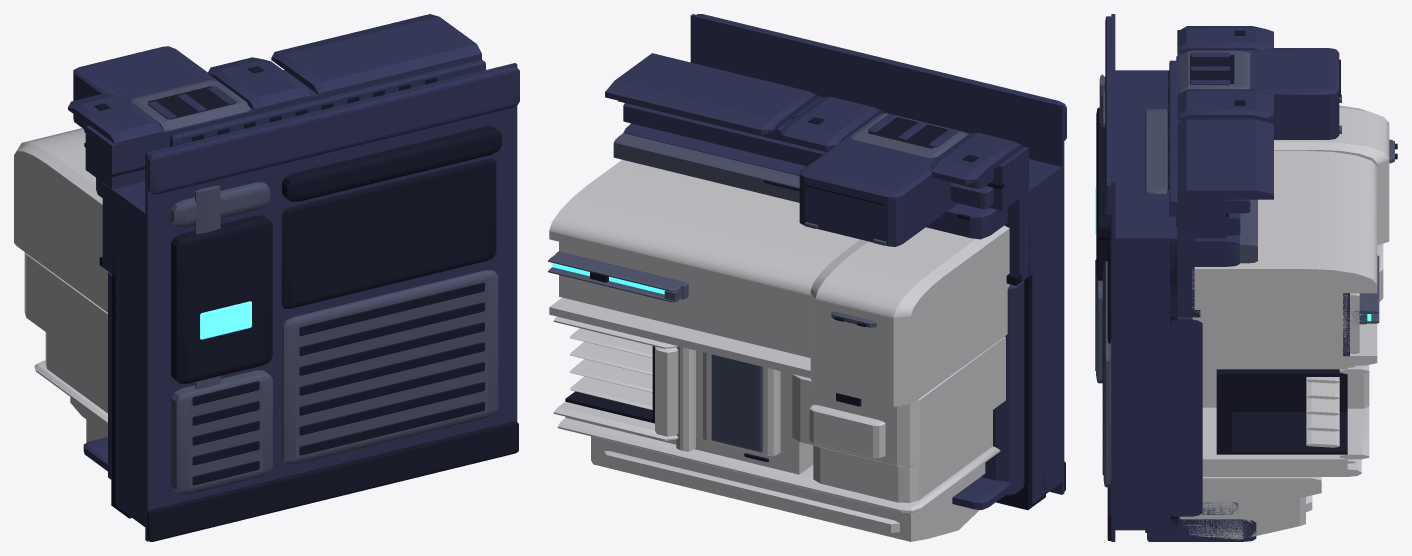
Rendered from hull.straight.c.glb.
3 views of the same model, side by side, from view 1: azimuth 30°, elevation 25°; view 2: azimuth 150°, elevation 25°; view 3: azimuth 270°, elevation 25° (orthographic). The views are drawn at different scales.
Parts seen in each view (by area): view 1: GEO-hull.straight.c; view 2: GEO-hull.straight.c; view 3: GEO-hull.straight.c.
Part boxes in pixels (box(x1,y1,x2,y2)): GEO-hull.straight.c: box(14, 14, 519, 541); GEO-hull.straight.c: box(548, 14, 1066, 541); GEO-hull.straight.c: box(1095, 14, 1397, 541).
Bounding box in the file's own units: 1 × 1 × 0.761.
